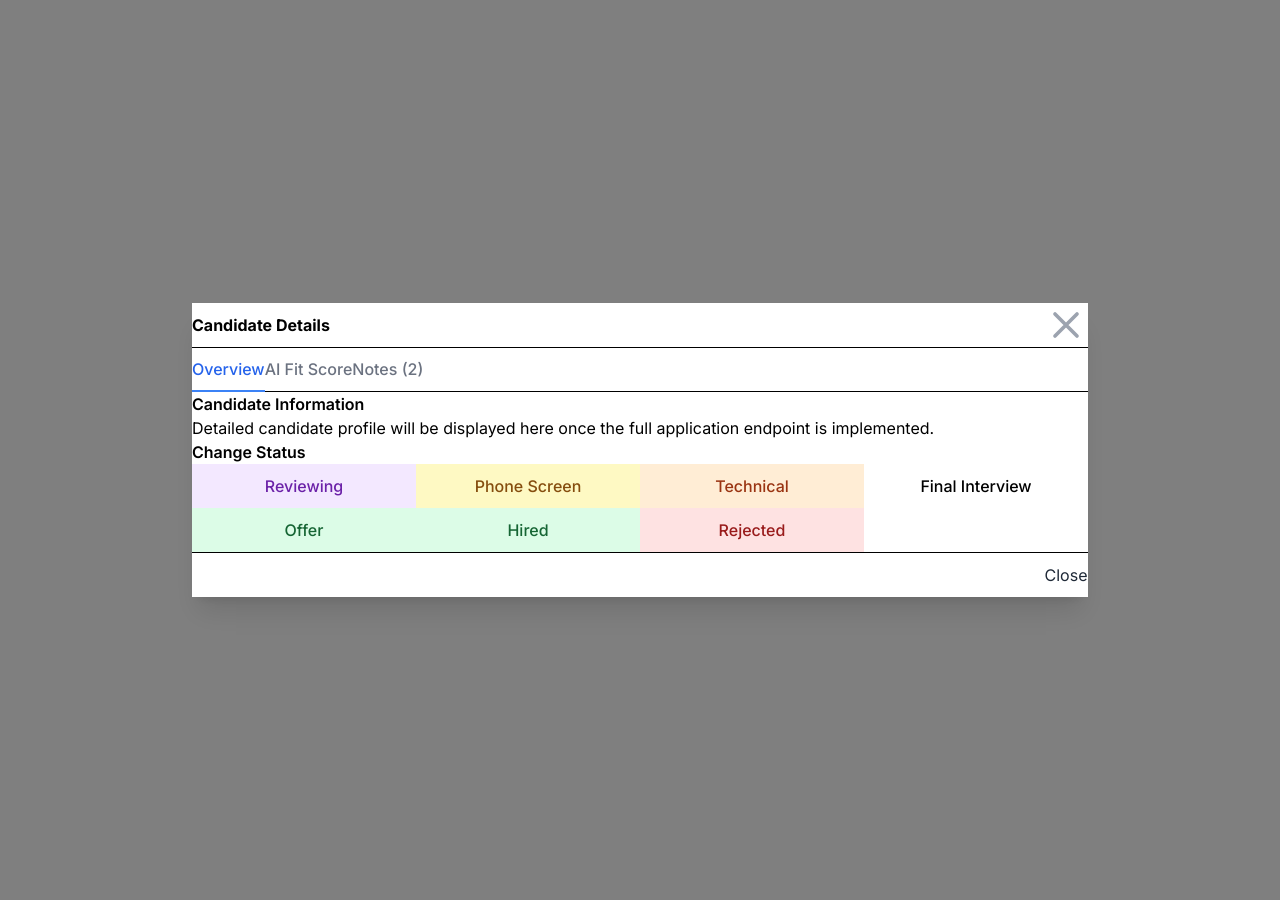
CandidateDetailModal Component › Status Change Workflow › should disable status buttons during update
Expected: the heading "Change Status" is shown, [192,442,306,462]
Click the button "Reviewing": click(304, 486) [192,464,416,508]
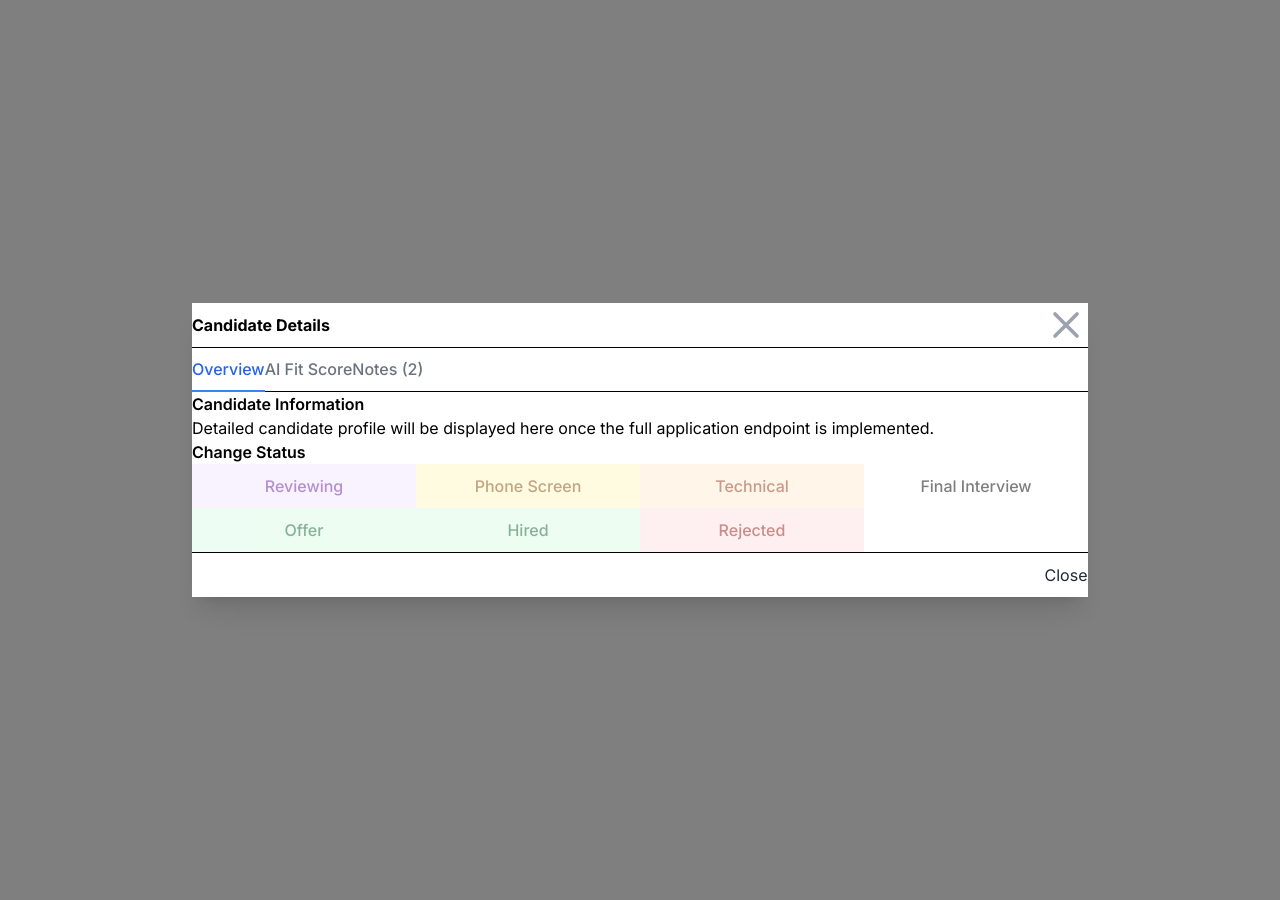
Now the button "Offer" is disabled, box [192,508,416,552]
